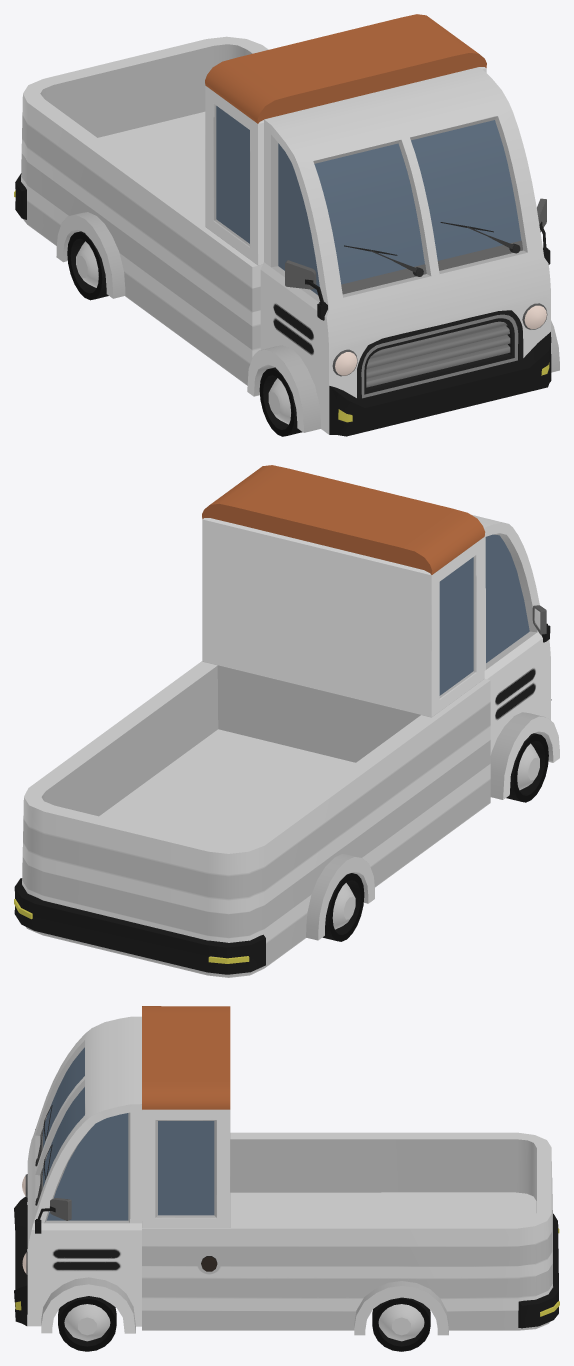
The model's file is Truck.glb.
3 views of the same model, one above another, from view 1: azimuth 30°, elevation 25°; view 2: azimuth 150°, elevation 25°; view 3: azimuth 270°, elevation 25° (orthographic). The views are drawn at different scales.
Visible parts, largest first — view 1: Mini_Truck.1; view 2: Mini_Truck.1; view 3: Mini_Truck.1.
Part boxes in pixels (box(x1,y1,x2,y2)): Mini_Truck.1: box(14, 14, 559, 436); Mini_Truck.1: box(14, 465, 559, 977); Mini_Truck.1: box(14, 1006, 559, 1351).
Size of the model in its own units: 0.122 by 0.1331 by 0.26.
1 material, 1 textured.
